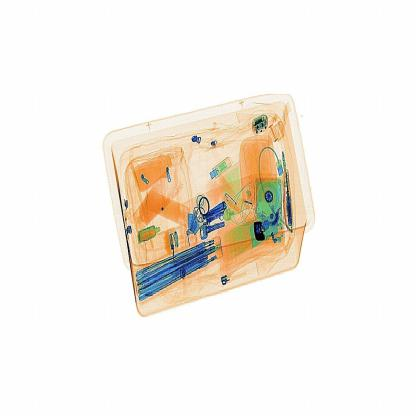pliers: (252, 221, 270, 247)
